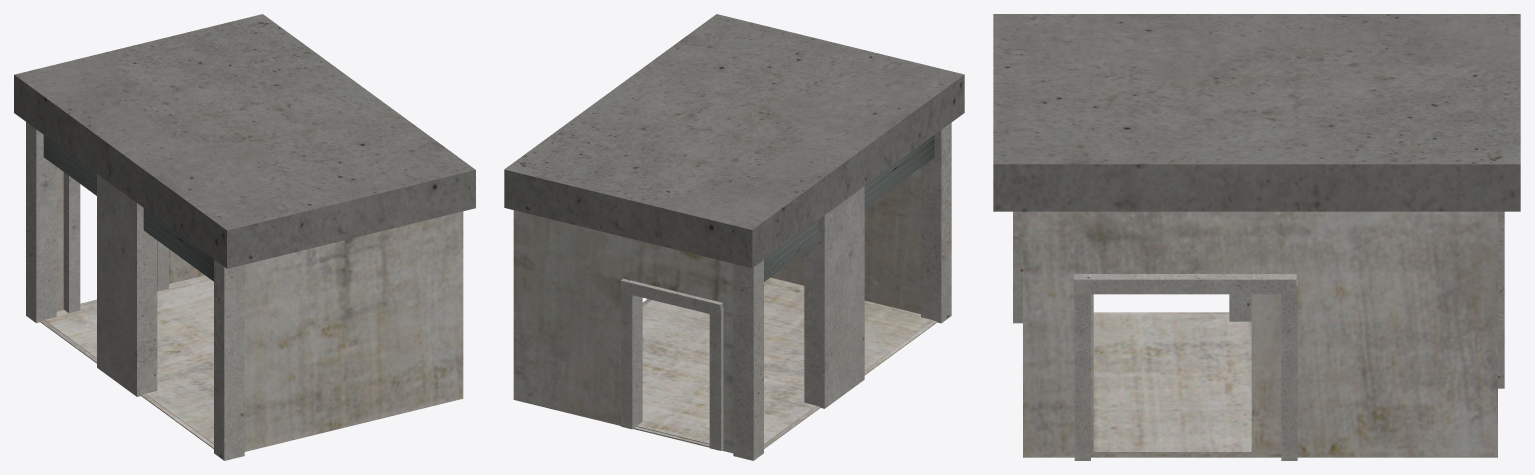
File: house ver5.FBX
3 views of the same model, side by side, from view 1: azimuth 30°, elevation 25°; view 2: azimuth 150°, elevation 25°; view 3: azimuth 270°, elevation 25° (orthographic). The views are drawn at different scales.
Parts seen in each view (by area): view 1: house ver5; view 2: house ver5; view 3: house ver5.
Boxes of the visible parts, x1,y1,x2,y2 form: house ver5: (14,14,475,460); house ver5: (504,14,964,460); house ver5: (993,14,1520,460).
Size of the model in its own units: 1438 by 1267 by 2059.
